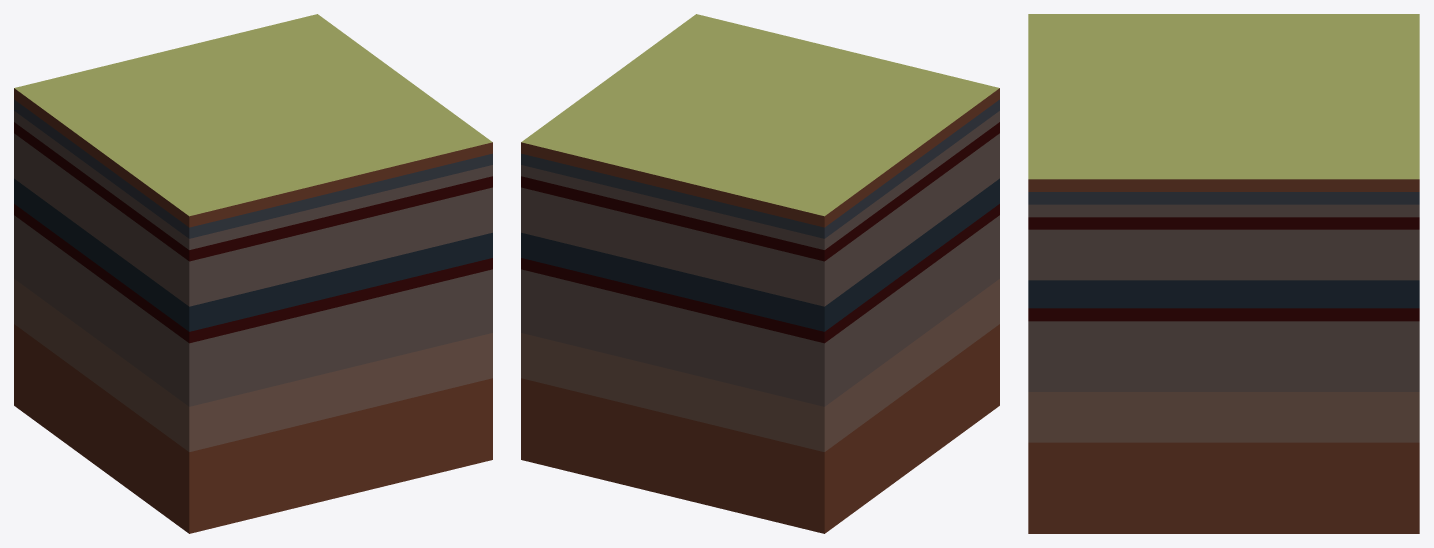
Rendered from clay.obj.
3 views of the same model, side by side, from view 1: azimuth 30°, elevation 25°; view 2: azimuth 150°, elevation 25°; view 3: azimuth 270°, elevation 25° (orthographic). The views are drawn at different scales.
Parts seen in each view (by area): view 1: Cube; view 2: Cube; view 3: Cube.
Boxes of the visible parts, x1,y1,x2,y2 form: Cube: [14, 14, 492, 533]; Cube: [521, 14, 999, 533]; Cube: [1028, 14, 1419, 533].
Size of the model in its own units: 2 by 2 by 2.
